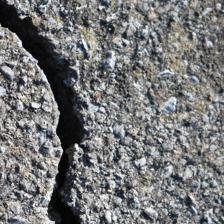Crack: (4, 3, 89, 218)
